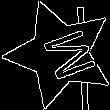M_W: (27, 23, 92, 85)
